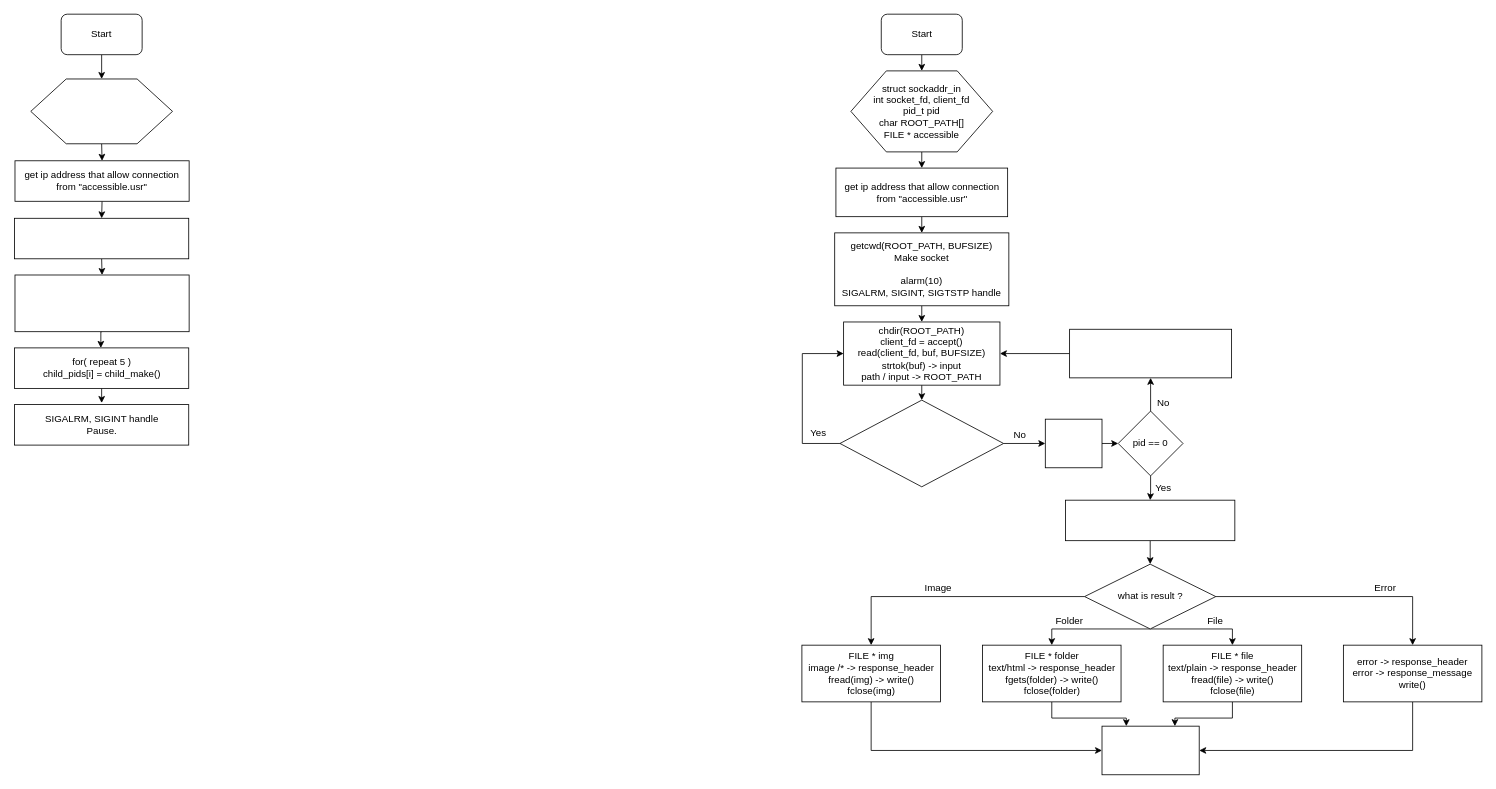
Some shapes in this 1496 by 789 pixel diagram are drawn without their labels. Here are the shapes that lost their labels. From the top down, the centre of each, then its label:
At pixel 101 111: "struct sockaddr_in int socket_fd, client_fd char ROOT_PATH[] FILE * accessible".
At pixel 101 238: "getcwd(ROOT_PATH, BUFSIZE) Make socket(socket(), bind(), listen())".
At pixel 101 303: "chdir(ROOT_PATH) client_fd = accept() pid = fork()".
At pixel 1150 353: "num_request ++ input client information to array[] pid(child) store array_pid[]".
At pixel 921 443: "if Exception - favicon.. - denied ip.. - not GET method..".
At pixel 1073 443: "pid = fork()".
At pixel 1150 520: "Print connected result = html_ls(path, ROOT_PATH)".
At pixel 1150 750: "Print disconnect close(client_fd) exit(0)".
